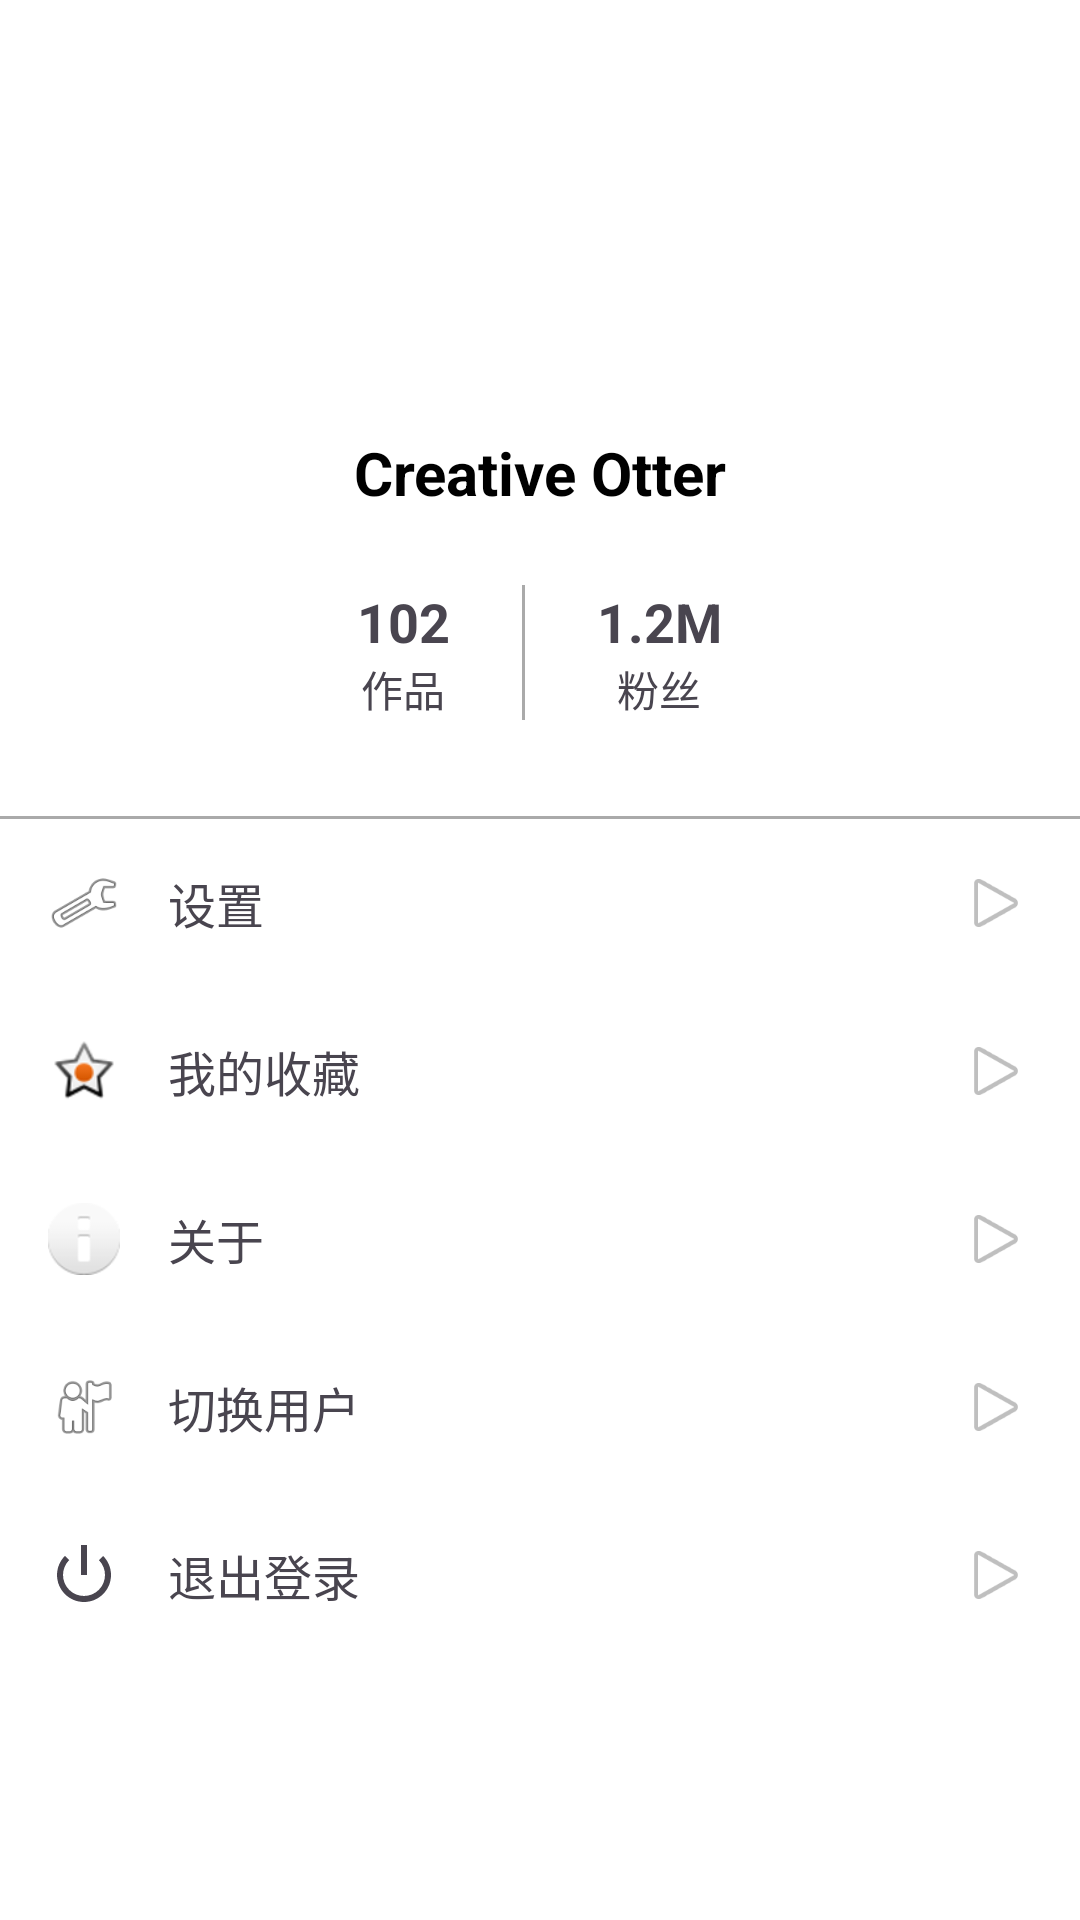

Icon click points for this 1080px x 1920px phone screenshot, format [x,y]:
info: [84,1245]
lock power off: [84,1573]
manage: [83,903]
myplaces: [85,1407]
play: [996,903], [996,1071], [996,1239], [996,1407], [996,1575]
star on: [84,1070]
